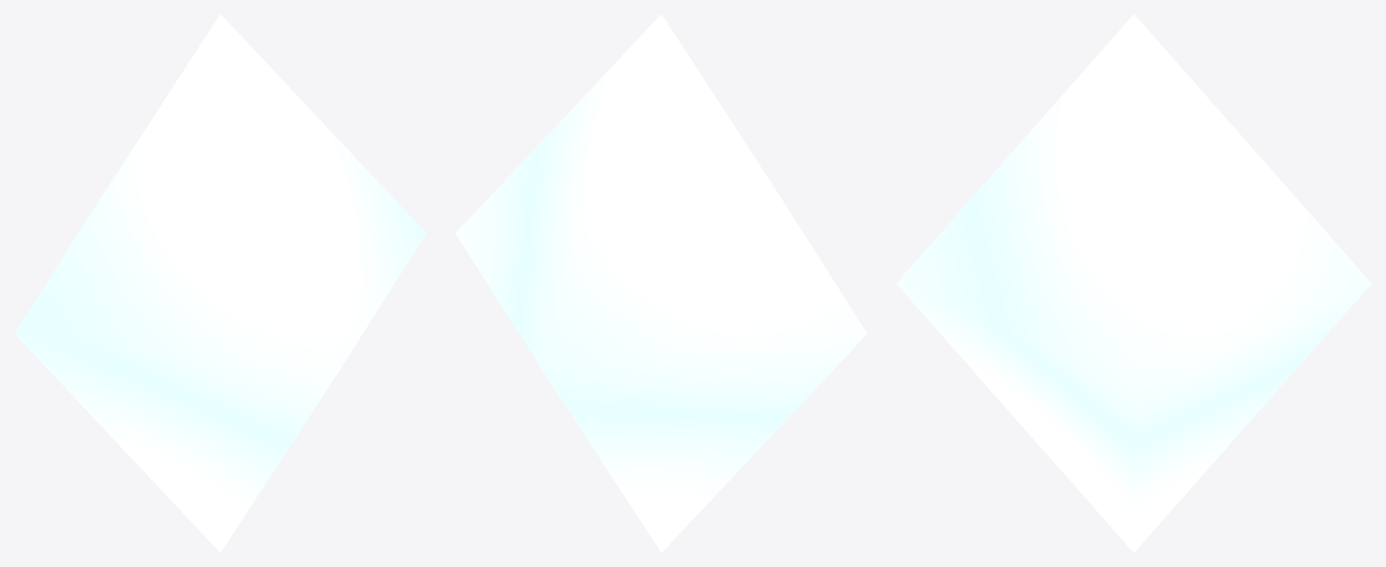
The model's file is SM_cv_gem_blue.glb.
3 views of the same model, side by side, from view 1: azimuth 30°, elevation 25°; view 2: azimuth 150°, elevation 25°; view 3: azimuth 270°, elevation 25° (orthographic).
Visible parts, largest first — view 1: SM_cv_gem_blue; view 2: SM_cv_gem_blue; view 3: SM_cv_gem_blue.
Boxes of the visible parts, x1,y1,x2,y2 form: SM_cv_gem_blue: (14, 14, 426, 552); SM_cv_gem_blue: (455, 14, 867, 552); SM_cv_gem_blue: (896, 14, 1371, 552).
Bounding box in the file's own units: 0.64 × 0.8 × 0.64.
